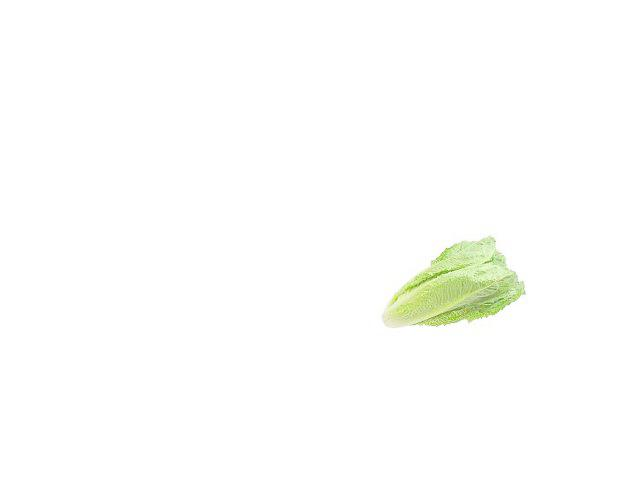lettuce: (394, 227, 548, 357)
